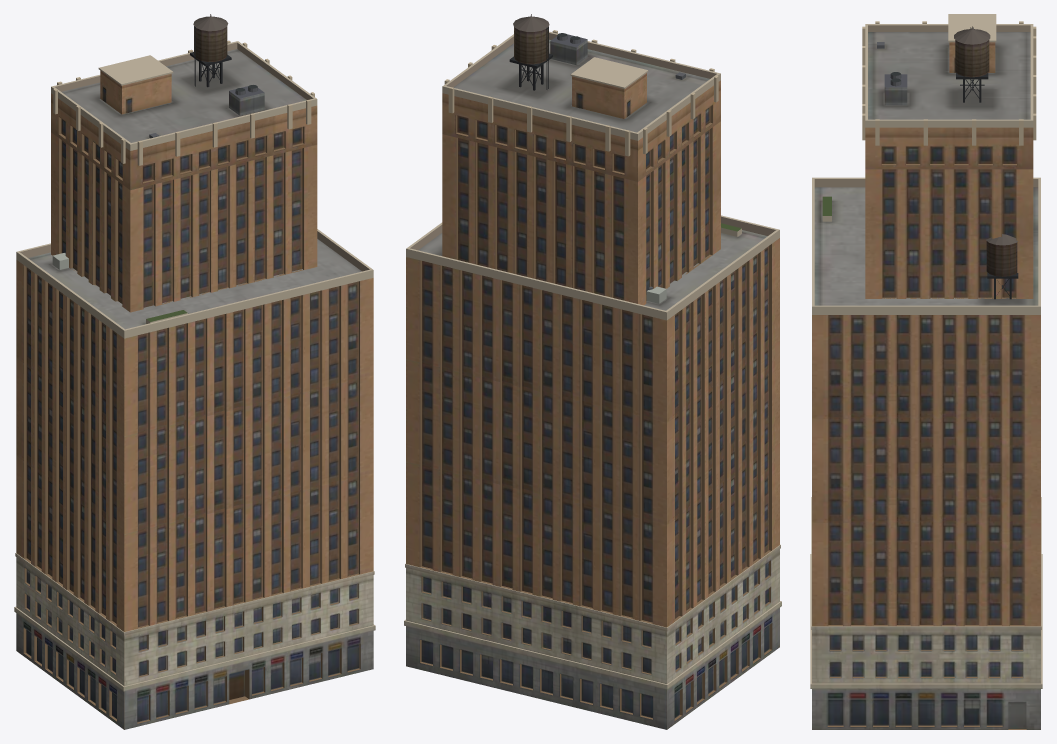
Rendered from nyc_deco_a.glb.
3 renders of one model, left to right at view 1: azimuth 30°, elevation 25°; view 2: azimuth 150°, elevation 25°; view 3: azimuth 270°, elevation 25°, orthographic. The views are drawn at different scales.
Visible parts, largest first — view 1: nyc_deco_a; view 2: nyc_deco_a; view 3: nyc_deco_a.
Boxes of the visible parts, <box> form: nyc_deco_a: <box>14,14,375,729</box>; nyc_deco_a: <box>404,14,781,729</box>; nyc_deco_a: <box>810,14,1042,729</box>.
Bounding box in the file's own units: 40.4 × 95.2 × 30.4.
1 material, 1 textured.
